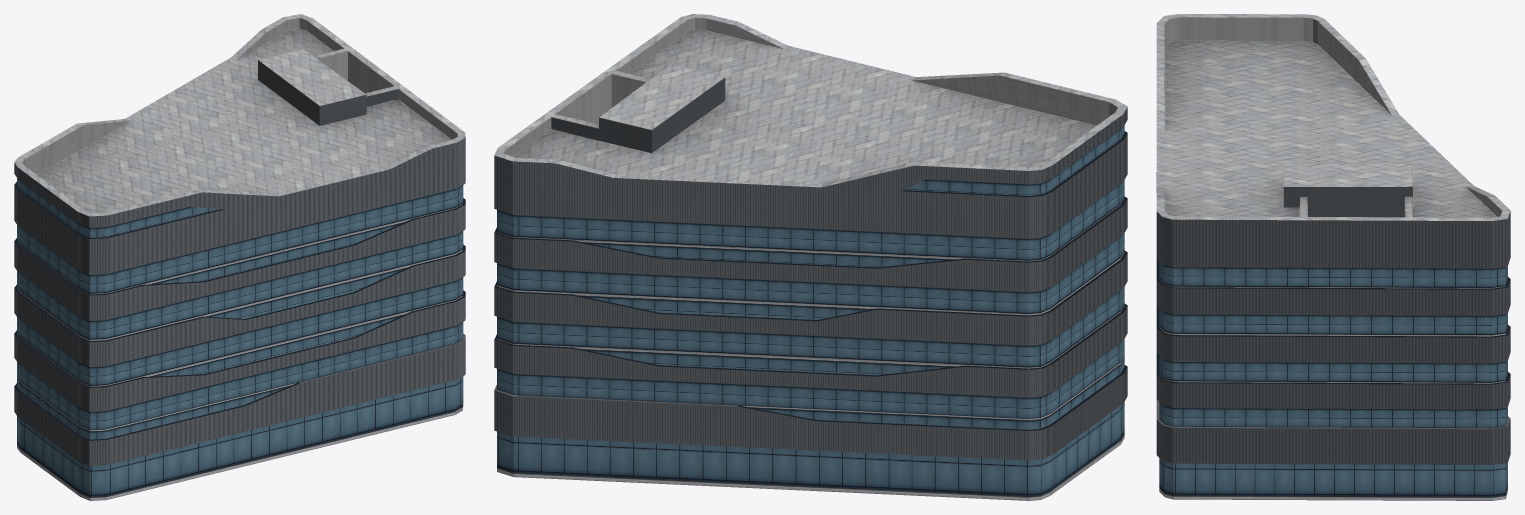
The picture shows the model from 3 angles, left to right: view 1: azimuth 30°, elevation 25°; view 2: azimuth 150°, elevation 25°; view 3: azimuth 270°, elevation 25°; orthographic projection. The views are drawn at different scales.
Parts seen in each view (by area): view 1: MainBuilding; view 2: MainBuilding; view 3: MainBuilding.
Boxes of the visible parts, x1,y1,x2,y2 form: MainBuilding: (14,14,465,500); MainBuilding: (494,14,1127,500); MainBuilding: (1156,14,1510,500).
Size of the model in its own units: 3.4 by 2.4 by 2.62.
Materials: 1 (1 with a texture image).
